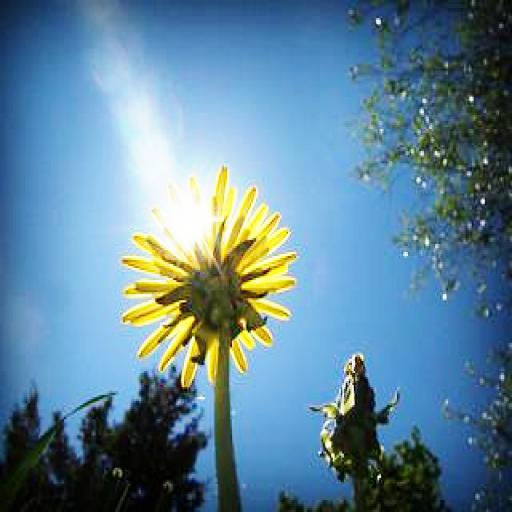dandelion: (120, 163, 298, 387)
